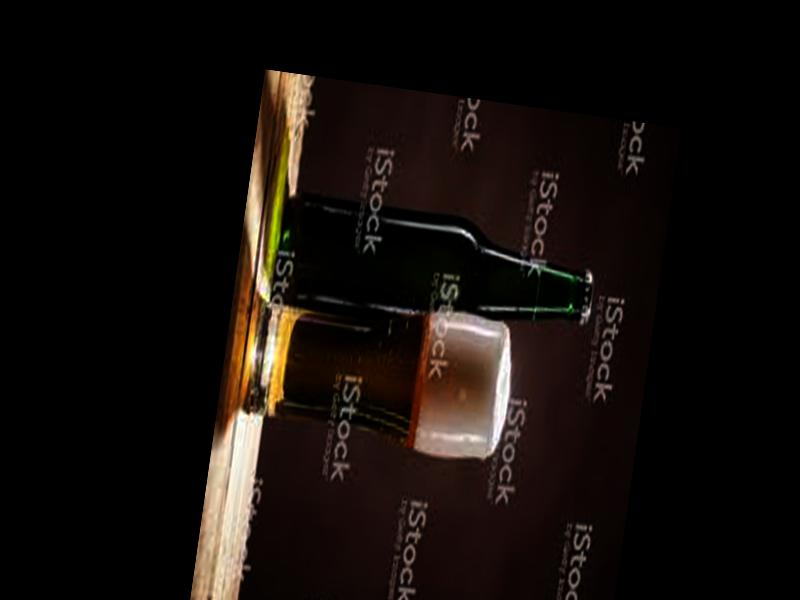Beer: (269, 190, 601, 350)
